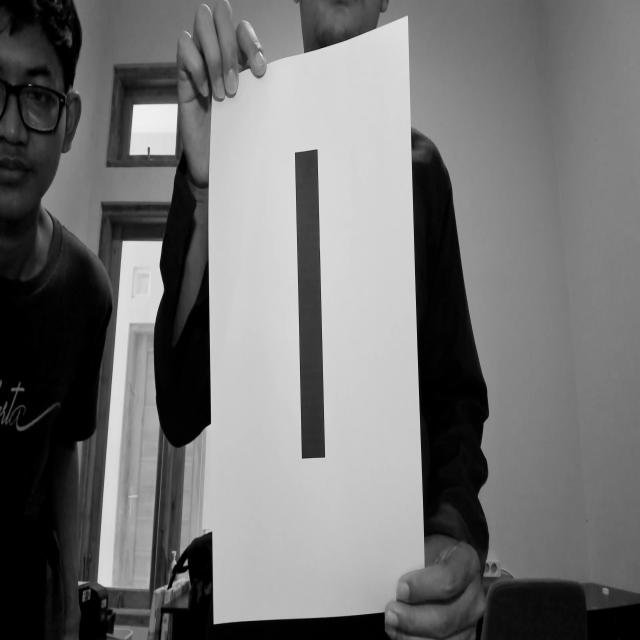i: (267, 130, 350, 486)
